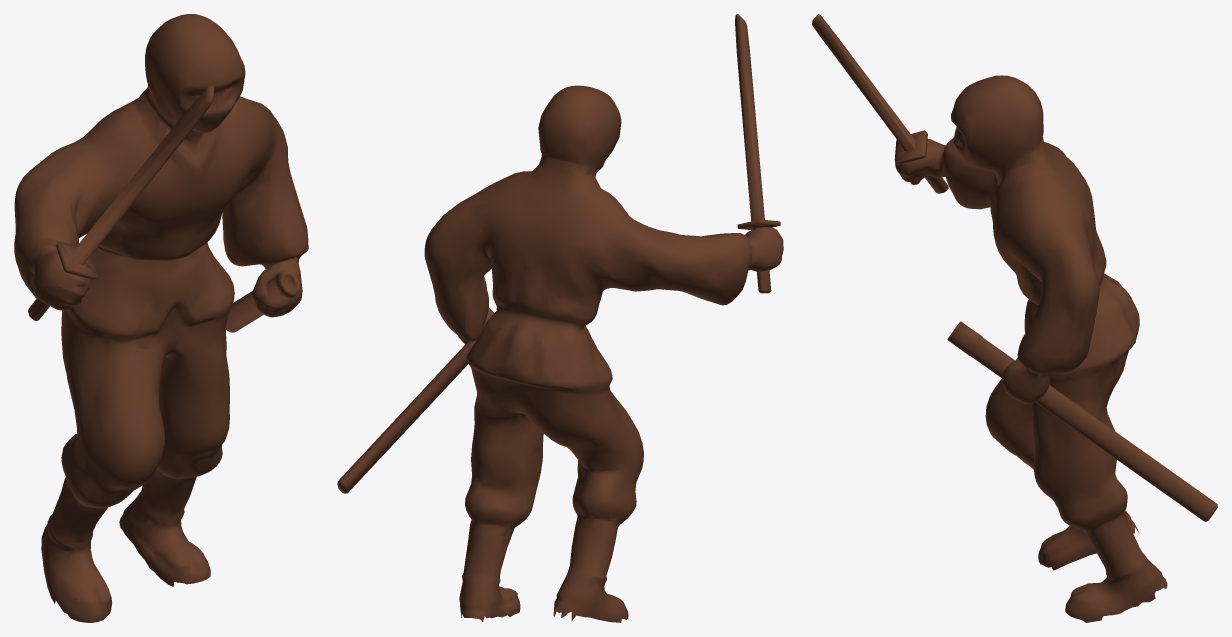
File: ninja.obj
The picture shows the model from 3 angles, left to right: view 1: azimuth 30°, elevation 25°; view 2: azimuth 150°, elevation 25°; view 3: azimuth 270°, elevation 25°; orthographic projection. The views are drawn at different scales.
Parts seen in each view (by area): view 1: ninja; view 2: ninja; view 3: ninja.
Part boxes in pixels (x1,y1,x2,y2): ninja: [14, 14, 308, 622]; ninja: [337, 14, 783, 622]; ninja: [812, 14, 1217, 622].
Size of the model in its own units: 2.78 by 4.62 by 3.11.
